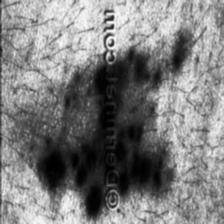Potentially Malignant Skin Tumors: (38, 72, 97, 212), (120, 56, 152, 201)
